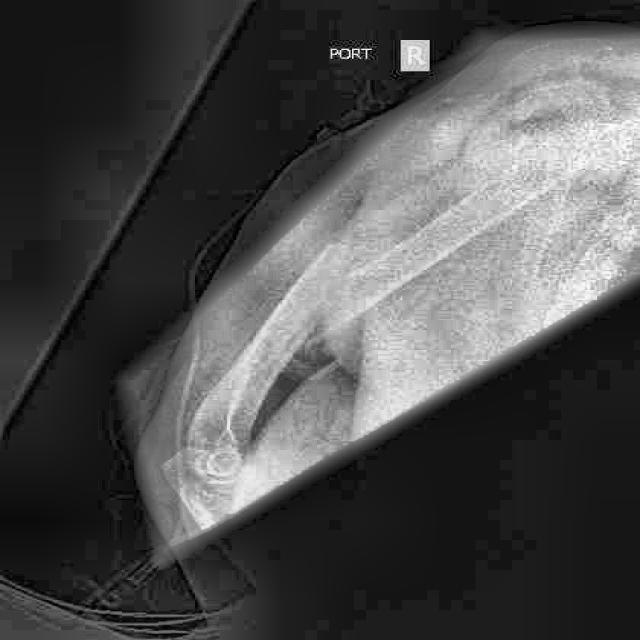humerus: (262, 193, 458, 394)
